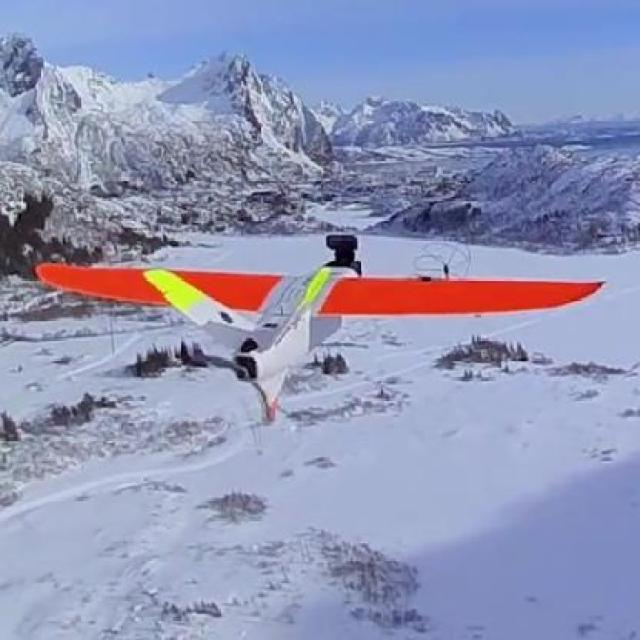iha: (17, 227, 620, 425)
